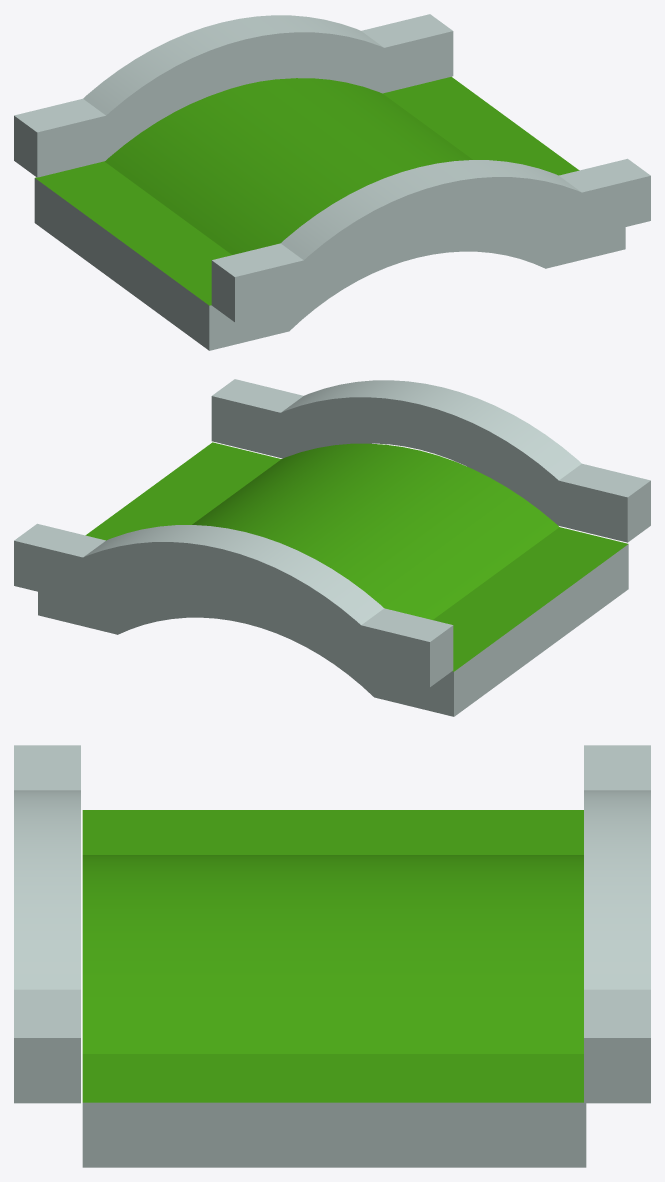
File: Loma de burro invertida.fbx
The picture shows the model from 3 angles, top to bottom: view 1: azimuth 30°, elevation 25°; view 2: azimuth 150°, elevation 25°; view 3: azimuth 270°, elevation 25°; orthographic projection. The views are drawn at different scales.
Parts seen in each view (by area): view 1: Loma de burro Invertida; view 2: Loma de burro Invertida; view 3: Loma de burro Invertida.
Part boxes in pixels (x1,y1,x2,y2): Loma de burro Invertida: (14, 14, 650, 350); Loma de burro Invertida: (14, 379, 650, 716); Loma de burro Invertida: (14, 745, 650, 1167).
Bounding box in the file's own units: 96.68 × 29.48 × 88.54.
Materials: 1 (1 with a texture image).
